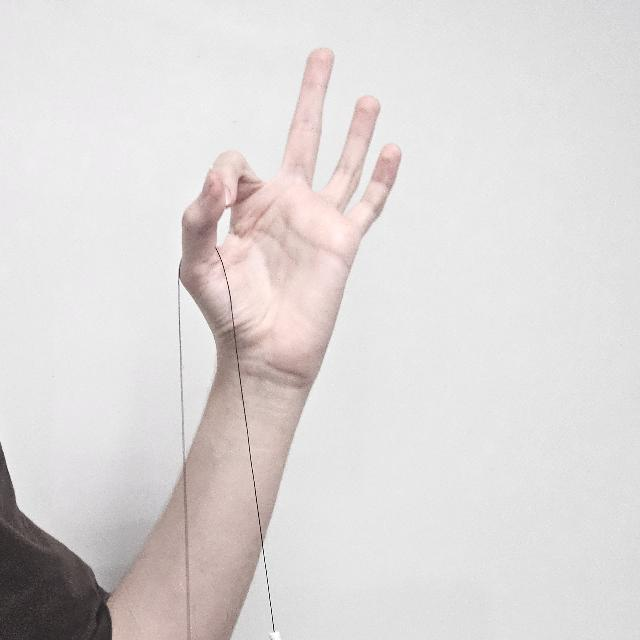Bolinha: (184, 44, 402, 392)
